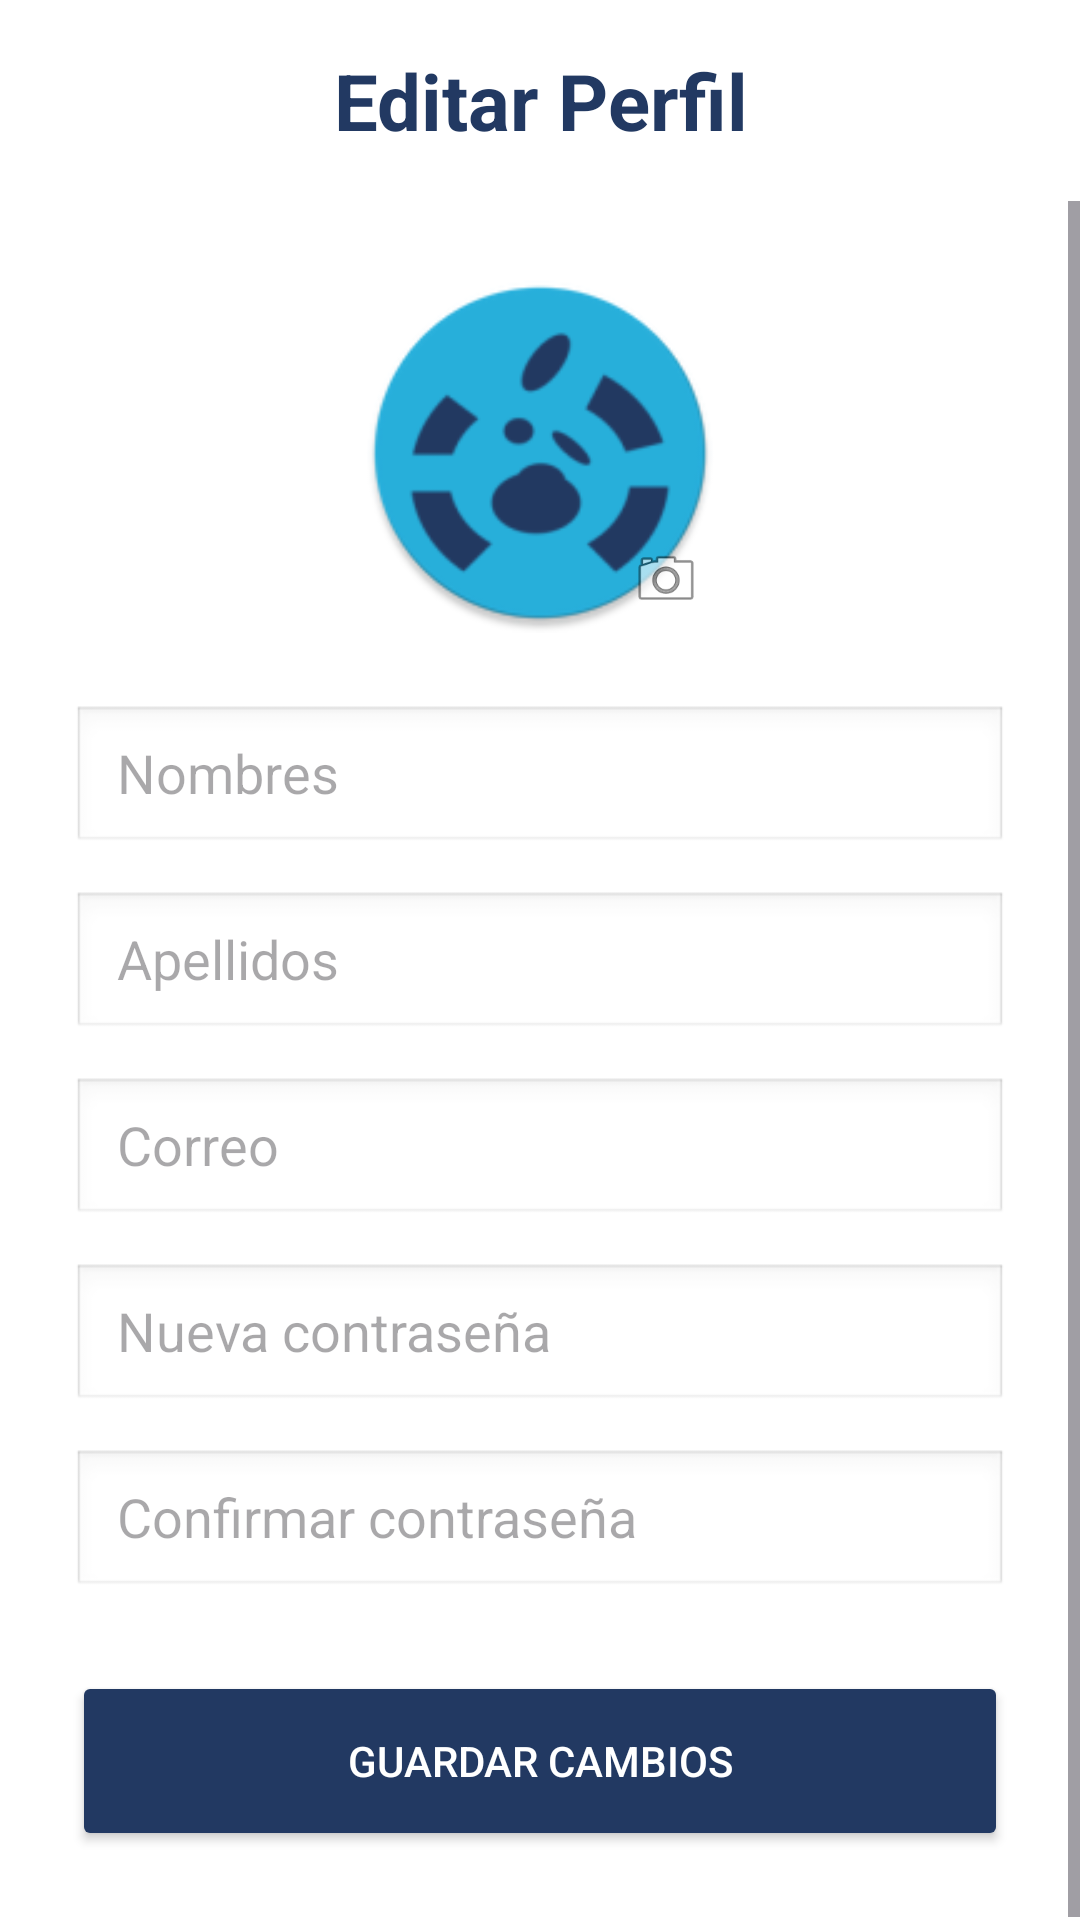

Screen size 1080 × 1920. Icon name, then its box in pixels as (x1, y1, x2, y2):
camera: (612, 525, 694, 610)
